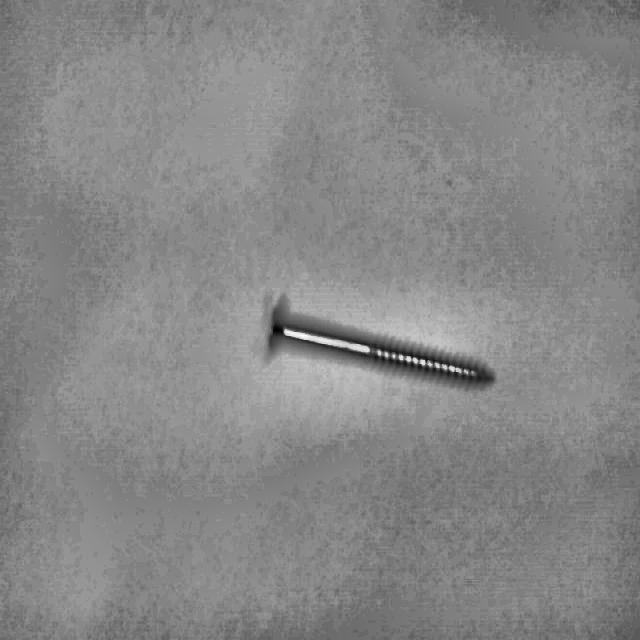Wood screw: (265, 292, 495, 385)
